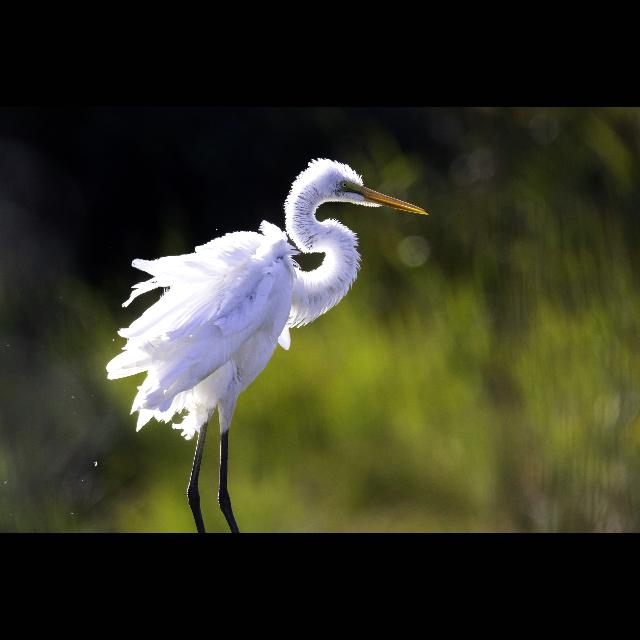egret: (103, 154, 437, 534)
